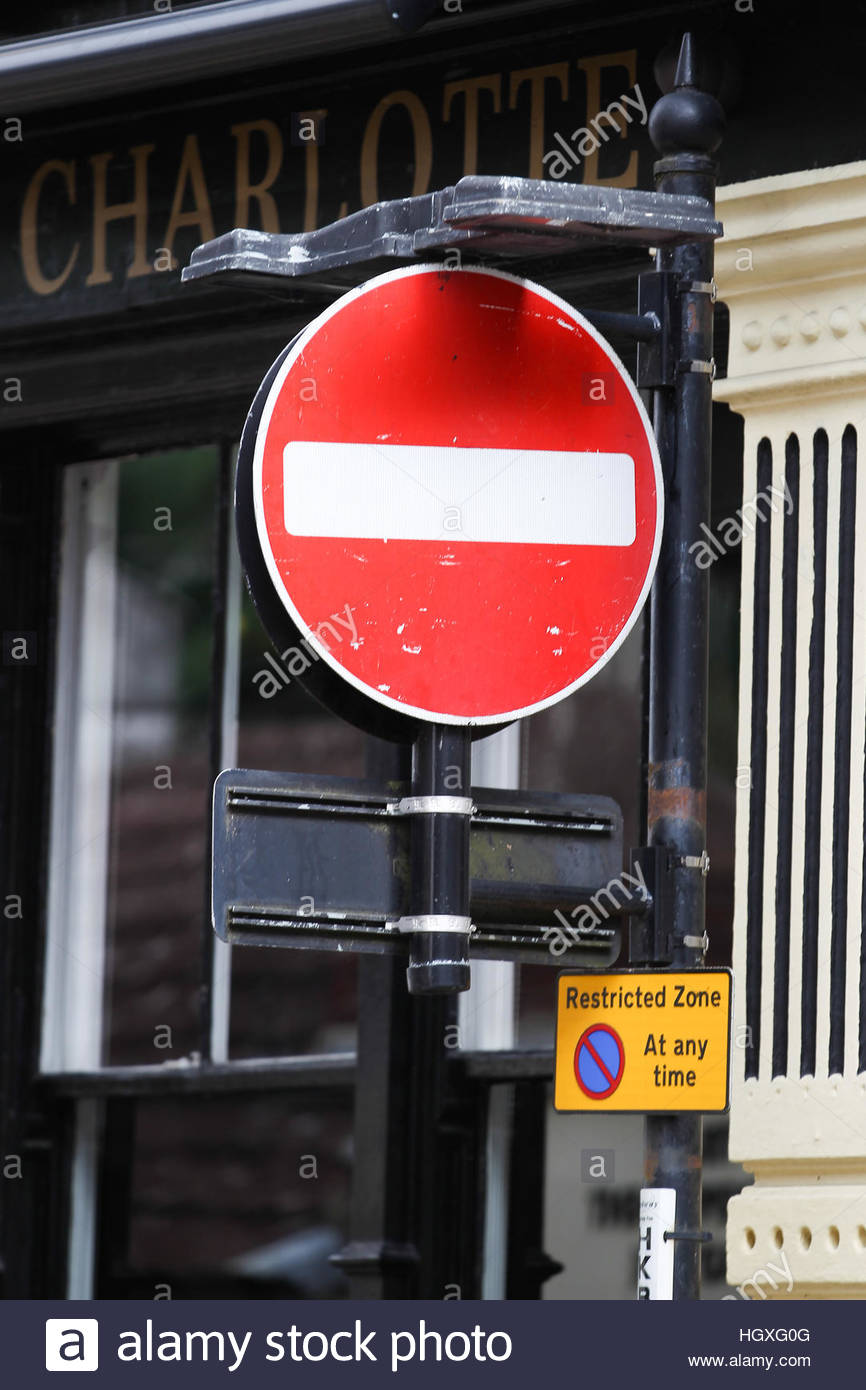No_entry: (253, 263, 667, 731)
